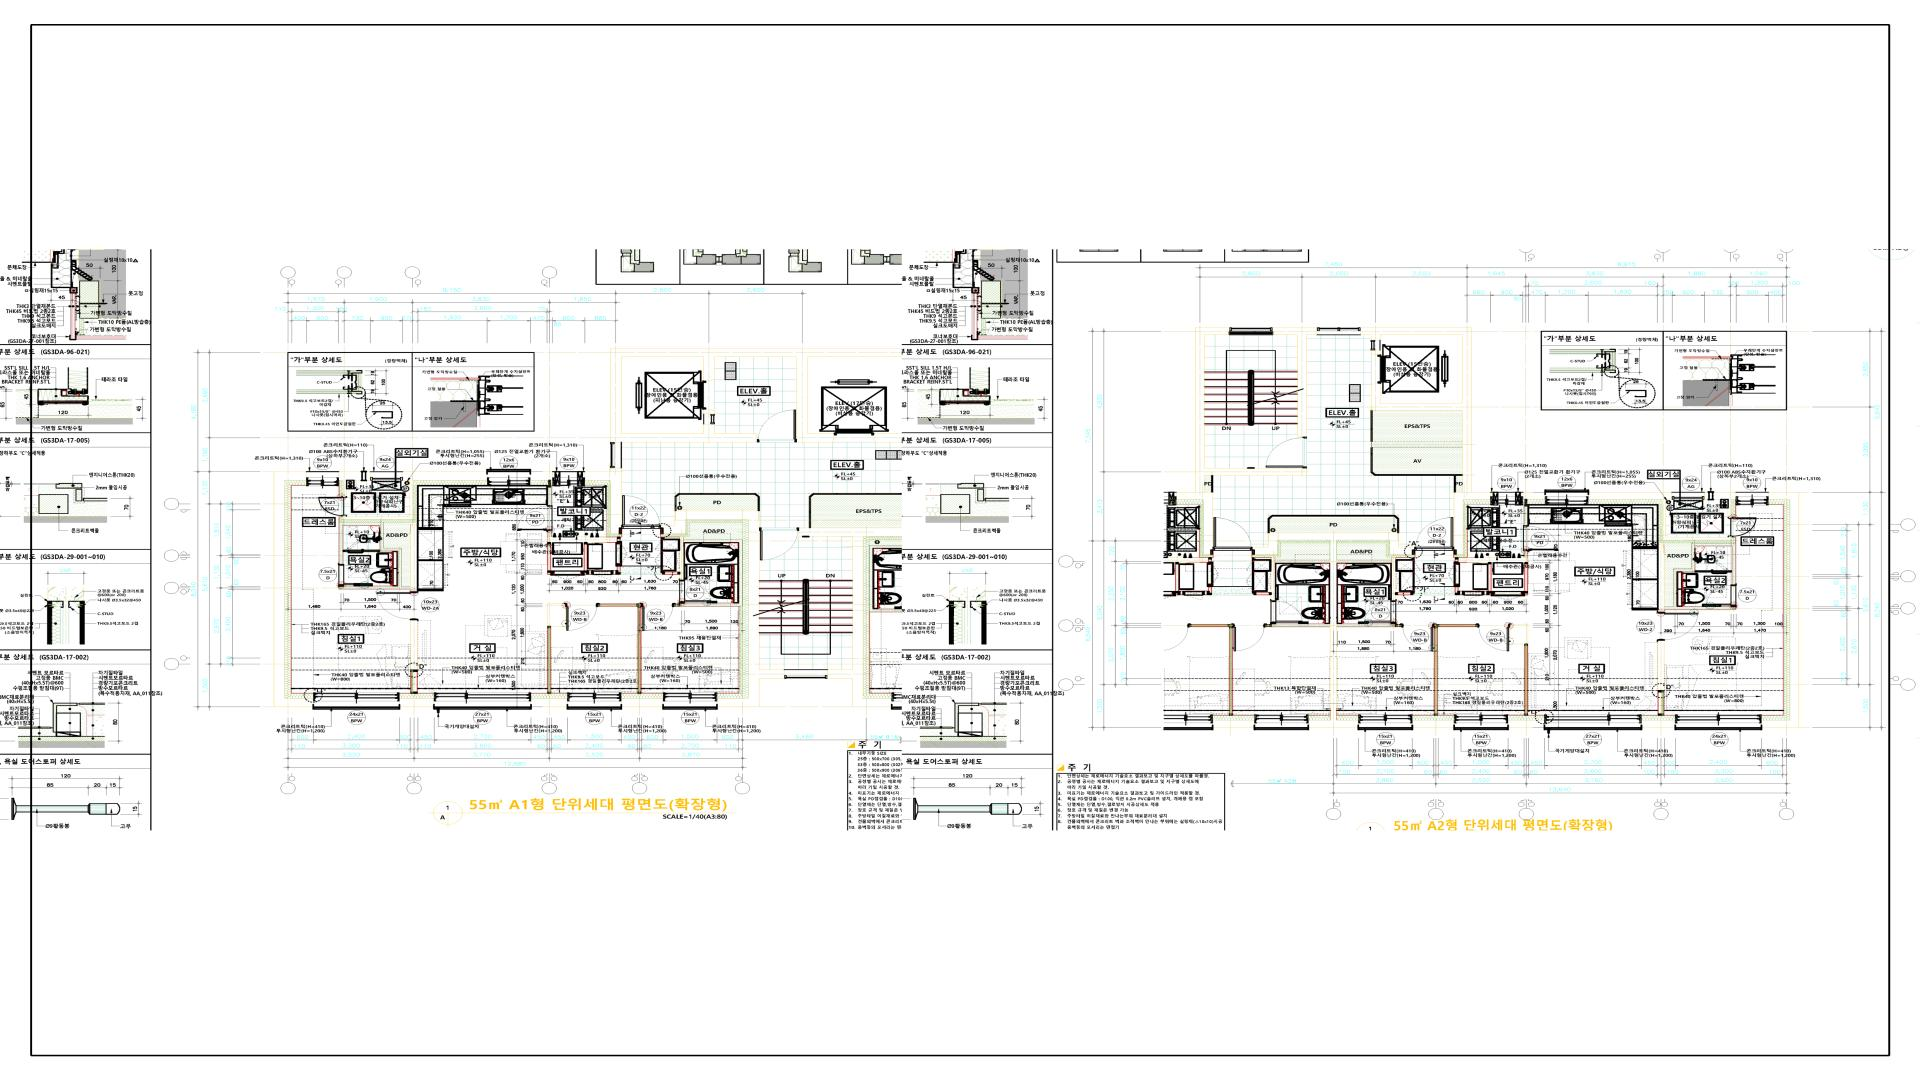door: (618, 495, 665, 534), (757, 409, 796, 443), (1415, 517, 1453, 551), (760, 527, 799, 560), (376, 591, 418, 621), (1662, 612, 1698, 641), (641, 603, 676, 632), (517, 505, 553, 531), (564, 603, 597, 630), (1402, 624, 1433, 651), (1477, 624, 1509, 651), (1523, 526, 1557, 551), (1364, 600, 1396, 624), (679, 580, 712, 604), (338, 564, 369, 587), (1706, 585, 1737, 607), (318, 496, 347, 517), (1727, 517, 1756, 537), (343, 537, 368, 553), (1706, 558, 1731, 572), (551, 571, 584, 580), (1491, 591, 1524, 600), (616, 542, 628, 567), (591, 570, 613, 580), (1462, 591, 1485, 600)
wall: (611, 348, 902, 442), (661, 512, 785, 707), (1195, 327, 1307, 492), (1361, 327, 1472, 492), (1333, 533, 1415, 728), (799, 527, 866, 707), (274, 472, 313, 707), (1763, 492, 1799, 728), (1589, 492, 1731, 541), (343, 472, 487, 520), (1273, 327, 1317, 436), (339, 522, 410, 589), (1664, 543, 1735, 609), (680, 539, 742, 607), (597, 604, 641, 694), (1435, 624, 1477, 716), (585, 468, 621, 534), (1455, 492, 1490, 554), (1705, 492, 1735, 517), (410, 621, 418, 694), (1658, 641, 1664, 716), (1371, 442, 1462, 447), (410, 525, 417, 592), (547, 537, 617, 542), (1458, 558, 1528, 563), (1659, 545, 1664, 609), (621, 699, 663, 707), (1414, 720, 1453, 728), (1524, 644, 1528, 716), (531, 699, 567, 707), (1509, 720, 1544, 728), (400, 699, 434, 707), (547, 626, 551, 694), (1643, 720, 1675, 728), (339, 472, 369, 480), (873, 434, 902, 442), (584, 542, 591, 575), (1485, 563, 1491, 595), (679, 537, 683, 580), (531, 472, 553, 480), (1391, 558, 1395, 600), (1523, 492, 1544, 500), (1337, 624, 1395, 626), (547, 542, 551, 575), (1524, 563, 1528, 595), (1455, 587, 1462, 595), (613, 567, 621, 575), (1395, 592, 1414, 595), (549, 488, 551, 505), (665, 572, 680, 575), (368, 550, 380, 553), (1695, 570, 1706, 572), (547, 531, 551, 537), (1455, 558, 1458, 562), (617, 537, 621, 541)
window: (434, 692, 531, 709), (1544, 715, 1643, 731), (314, 692, 400, 709), (1675, 715, 1763, 731), (663, 692, 717, 709), (567, 692, 621, 709), (1357, 715, 1414, 731), (1453, 715, 1509, 731), (487, 469, 531, 487), (1544, 489, 1589, 505), (306, 471, 339, 487), (553, 471, 585, 487), (1735, 492, 1768, 505), (1490, 492, 1523, 505), (785, 670, 828, 679), (369, 471, 404, 481), (1229, 327, 1273, 335), (1317, 327, 1361, 335), (611, 442, 622, 468), (1672, 492, 1705, 500), (703, 414, 715, 425)
